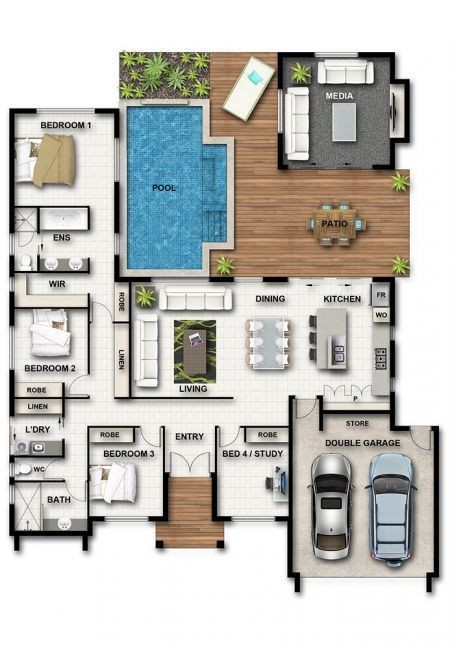room: (128, 276, 394, 398), (277, 51, 394, 169), (8, 108, 119, 206), (86, 425, 165, 521), (214, 425, 293, 521), (8, 305, 89, 398)
